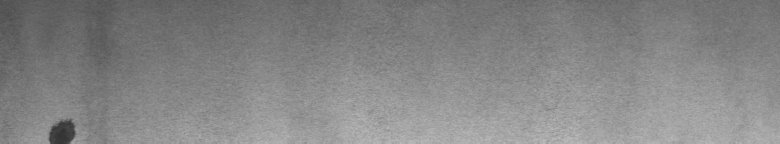fi: (43, 112, 84, 136)
